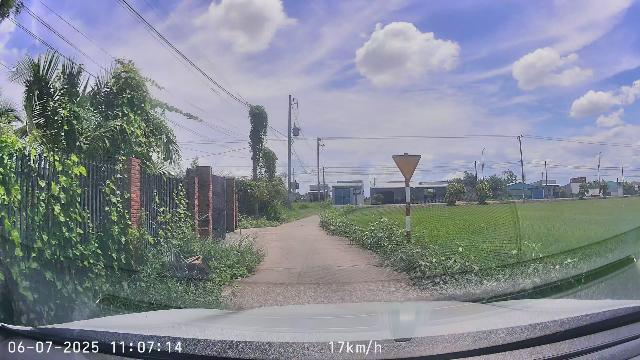208-giao-nhau-voi-duong-uu-tien: (392, 155, 421, 181)
